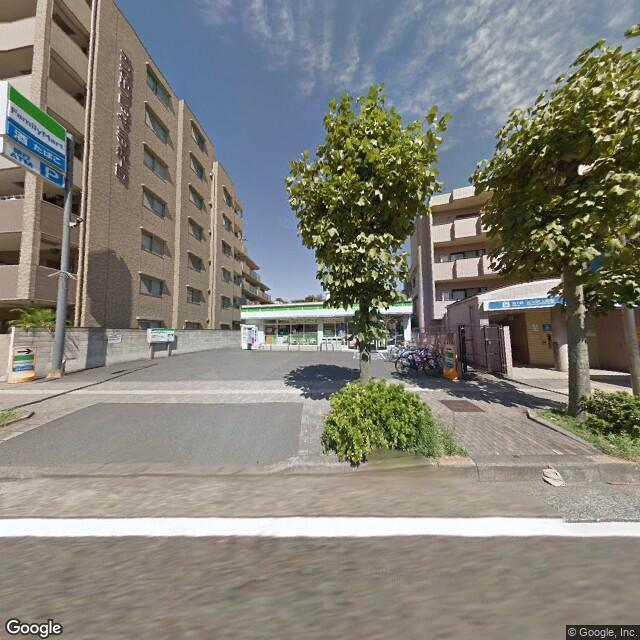family_mart: (7, 86, 66, 169), (240, 298, 413, 321)
